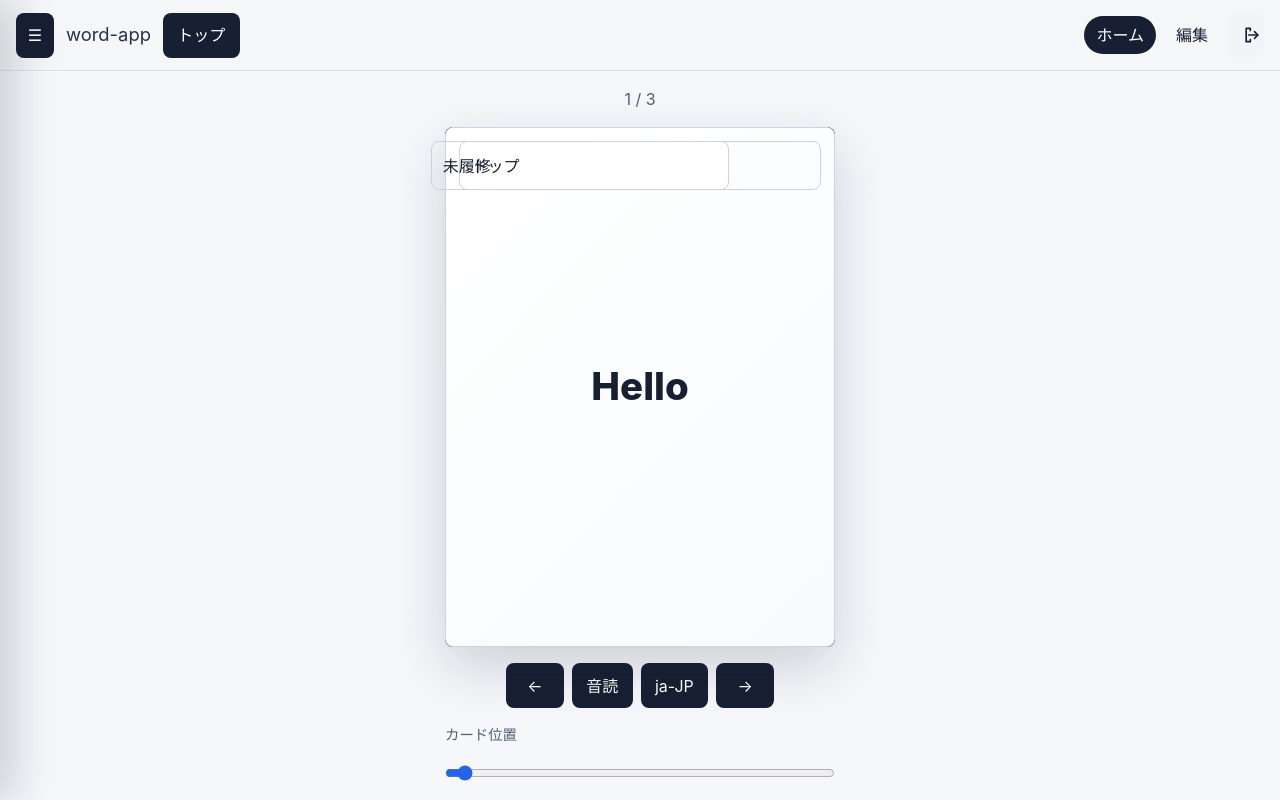
Test: App › moves to the next card from the arrow button
Click the button named "次のカード": (745, 686) left=716, top=663, right=774, bottom=708
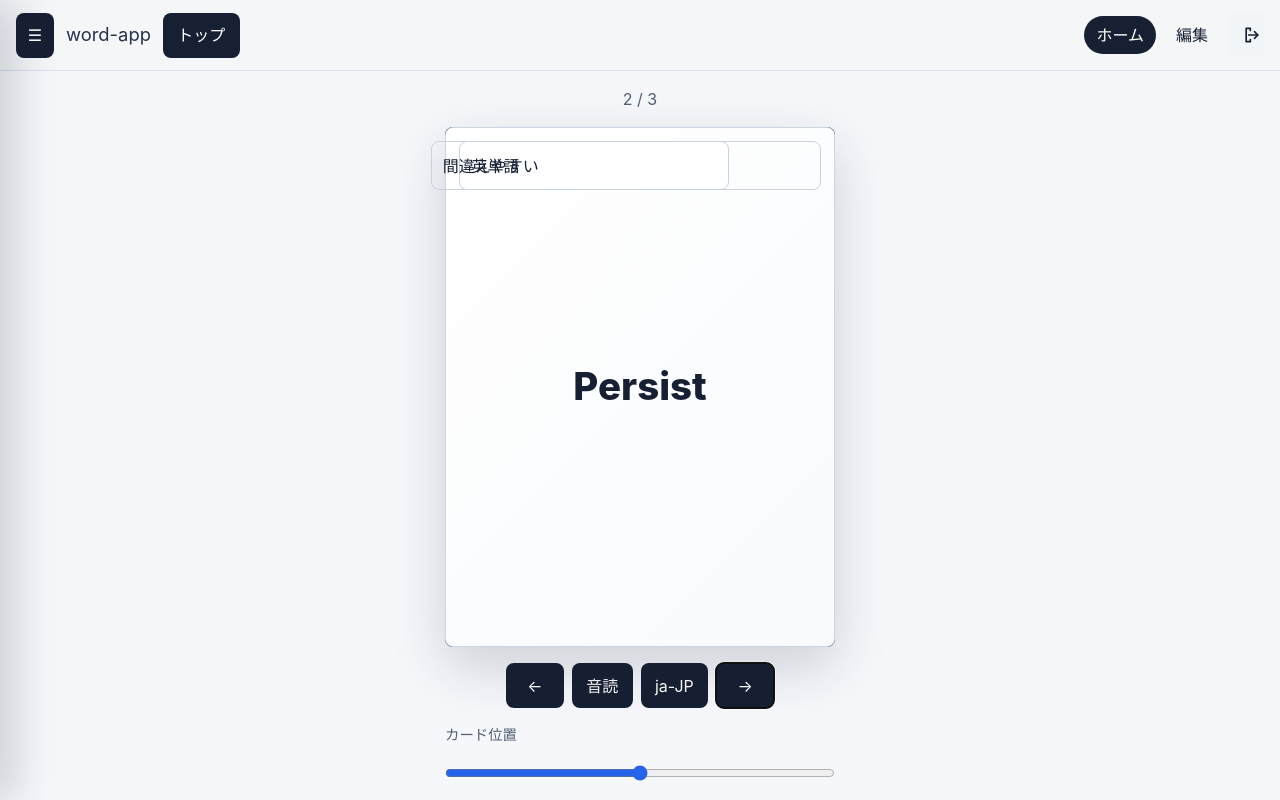
expect the text "Persist" is shown: met, box left=445, top=127, right=835, bottom=647
